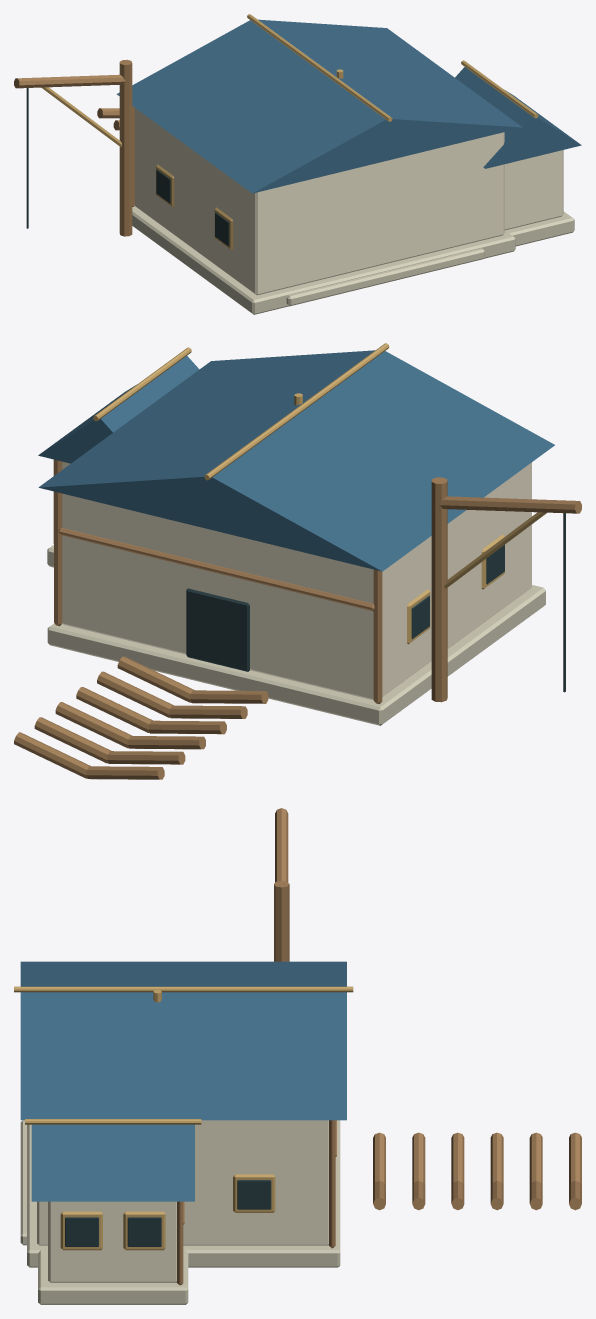
The model's file is level_14.glb.
The picture shows the model from 3 angles, top to bottom: view 1: azimuth 30°, elevation 25°; view 2: azimuth 150°, elevation 25°; view 3: azimuth 270°, elevation 25°; orthographic projection. The views are drawn at different scales.
Visible parts, largest first — view 1: shipyard — level 14; view 2: shipyard — level 14; view 3: shipyard — level 14.
Part boxes in pixels (box(x1,y1,x2,y2)): shipyard — level 14: box(14, 14, 581, 314); shipyard — level 14: box(14, 343, 581, 779); shipyard — level 14: box(14, 808, 581, 1304).
Size of the model in its own units: 9.81 by 3.91 by 8.7.
